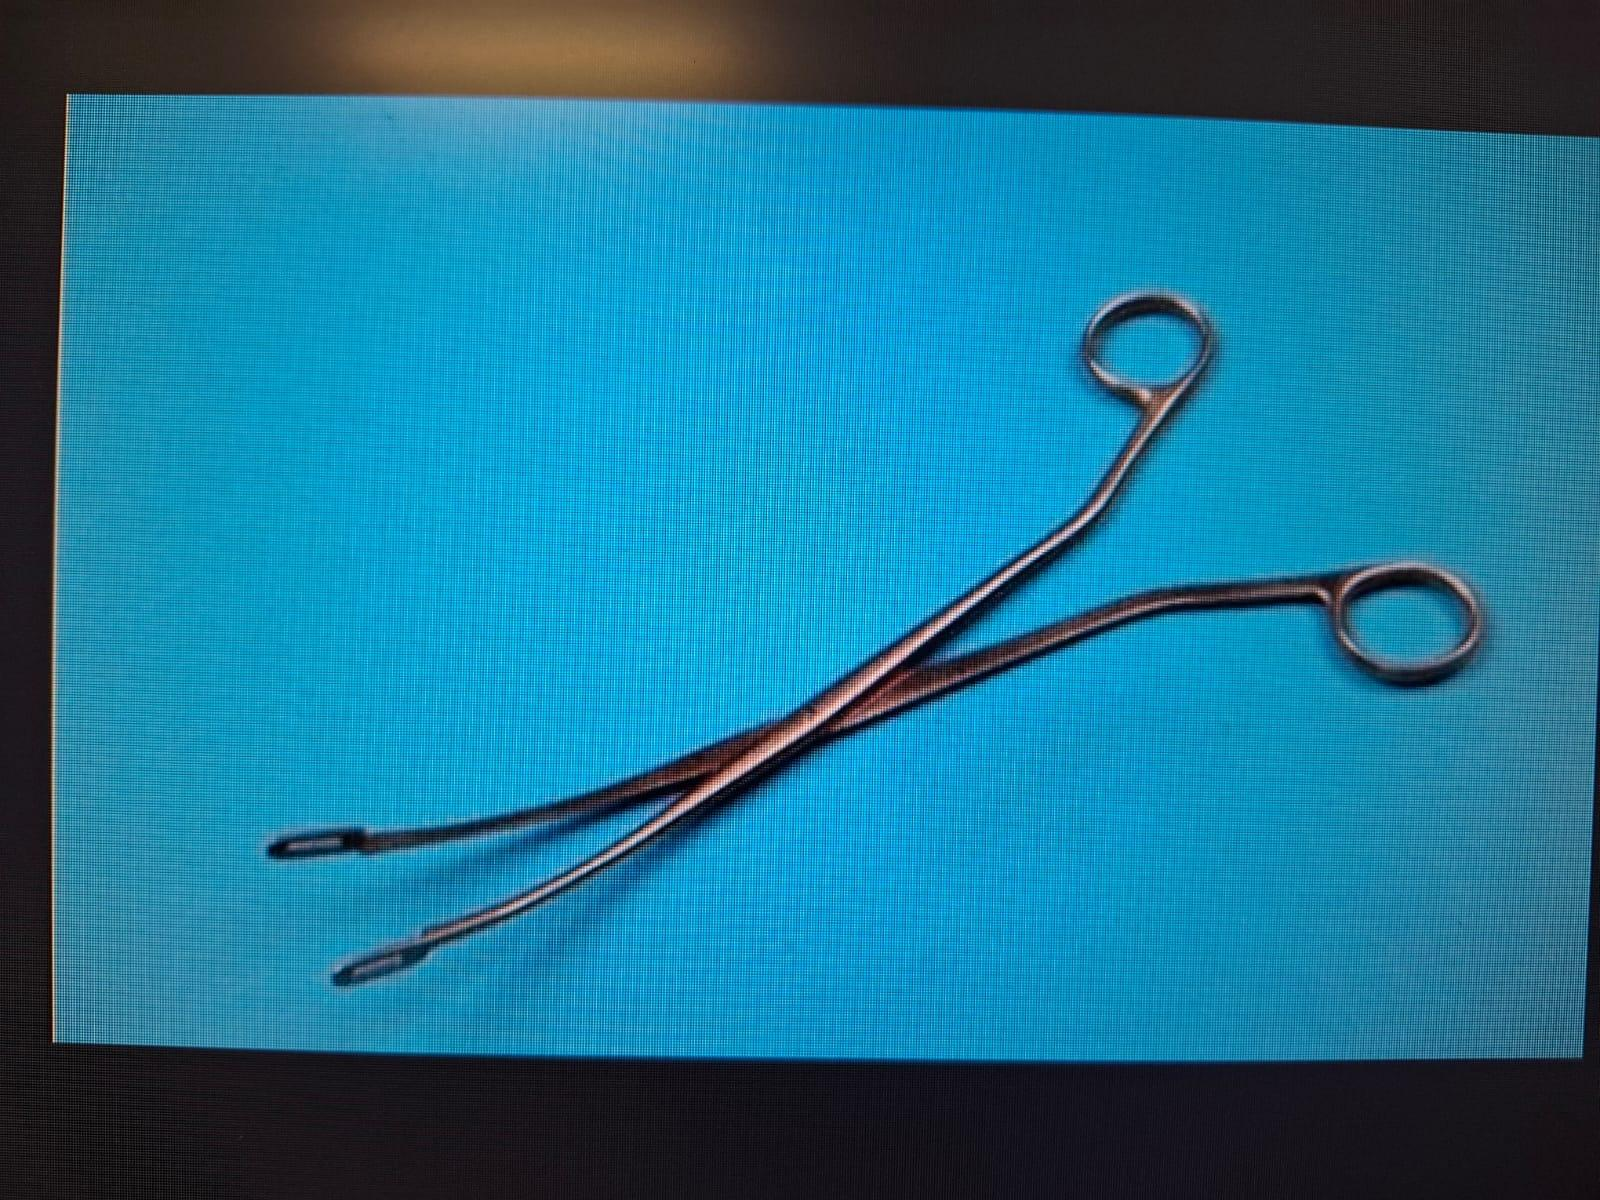Desjardin Forceps: (234, 268, 1508, 1008)
